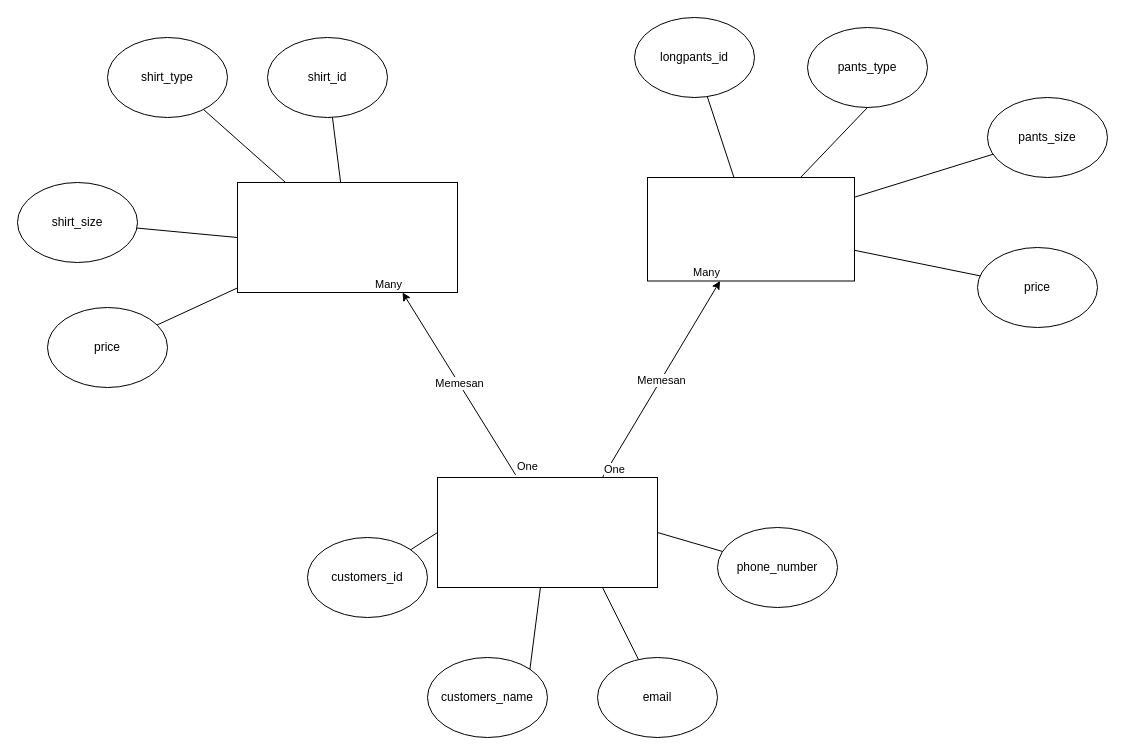
Image size: 1125x755. Some labels were removed from this diagram. The shapes that lost their labels are listed below. From the top down, each one's box as (x1, y1, x2, y2) in pixels, then its label:
(236, 182, 458, 292): Shirt
(646, 176, 854, 281): Long_Pants
(436, 476, 658, 588): Customers
